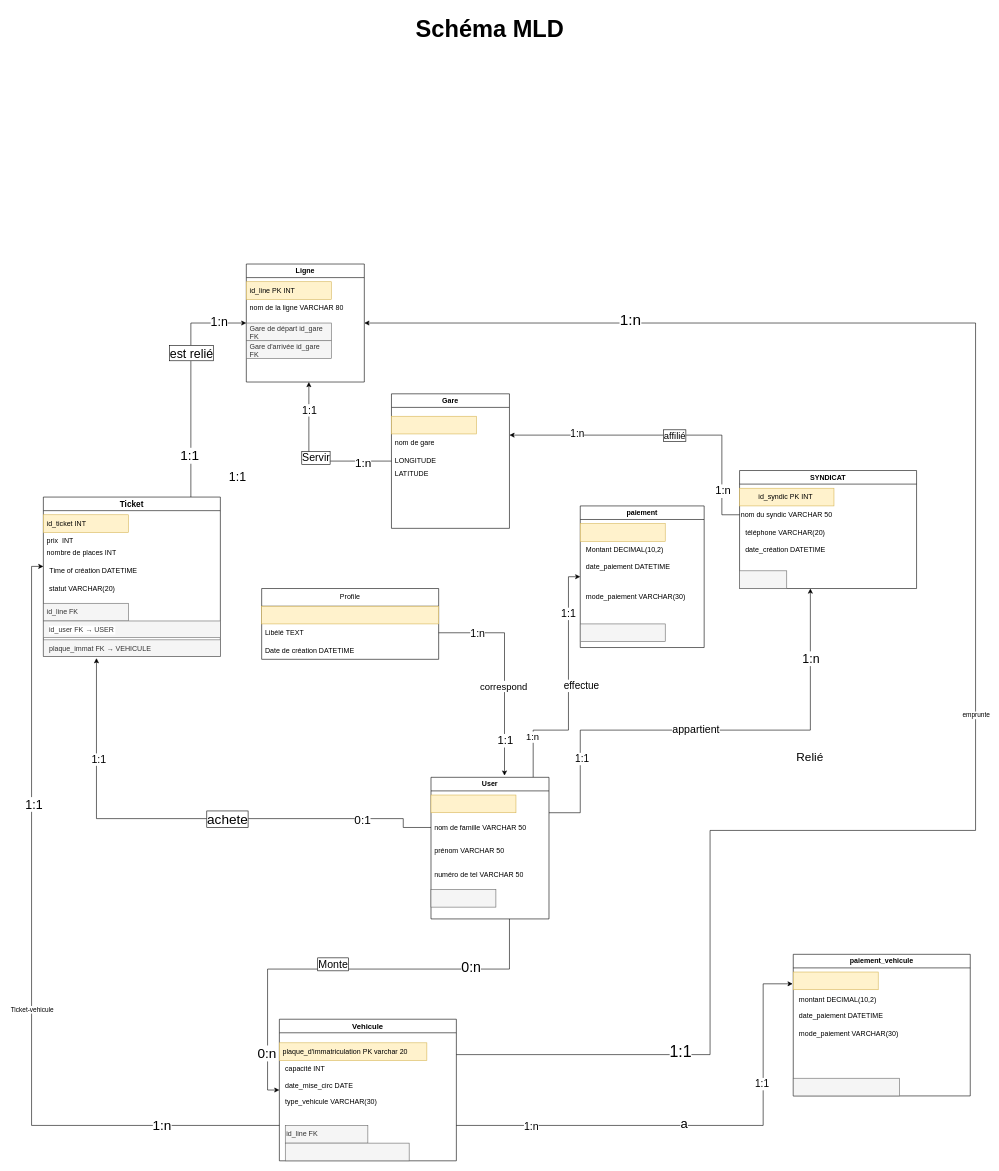
Image size: 999x1171. Some labels were removed from this diagram. The shapes that lost their labels are listed below. From the top down, each one's centre as x and y in pixels, then its label:
At pixel 433 425: "id_gare PK".
At pixel 622 532: "Id_paiement PK".
At pixel 763 579: "id_gare FK".
At pixel 350 615: "id_profil INT PK".
At pixel 622 632: "id_user FK".
At pixel 473 803: "Id_user PK INT".
At pixel 463 898: "id_profile FK".
At pixel 835 980: "Id_pay_vehicule PK INT".
At pixel 846 1087: "plaque_d'immatriculation FK".
At pixel 347 1152: "id_propriétaire FK USER".
